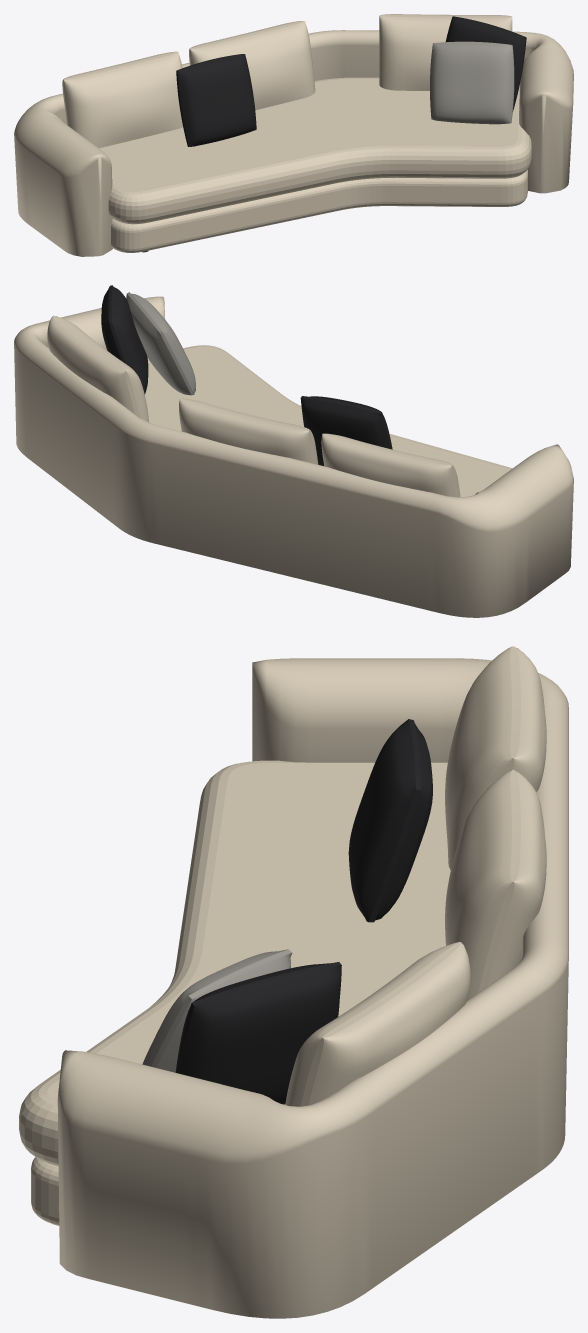
File: germain-right.glb
3 views of the same model, one above another, from view 1: azimuth 30°, elevation 25°; view 2: azimuth 150°, elevation 25°; view 3: azimuth 270°, elevation 25° (orthographic). The views are drawn at different scales.
Parts seen in each view (by area): view 1: seat, shell, base, pillow, pillow2; view 2: shell, seat, pillow, pillow2; view 3: shell, seat, pillow, pillow2, base.
Boxes of the visible parts, left/top/right/bottom form: seat: left=62, top=14, right=531, bottom=224; shell: left=14, top=30, right=573, bottom=256; base: left=111, top=169, right=527, bottom=252; pillow: left=176, top=16, right=526, bottom=146; pillow2: left=430, top=41, right=514, bottom=124; shell: left=14, top=296, right=573, bottom=617; seat: left=47, top=315, right=512, bottom=497; pillow: left=101, top=285, right=392, bottom=465; pillow2: left=126, top=292, right=195, bottom=395; shell: left=57, top=658, right=568, bottom=1318; seat: left=19, top=646, right=546, bottom=1166; pillow: left=175, top=719, right=432, bottom=1104; pillow2: left=142, top=949, right=292, bottom=1072; base: left=31, top=1157, right=59, bottom=1225.
Bounding box in the file's own units: 3.2 × 0.86 × 1.54.
